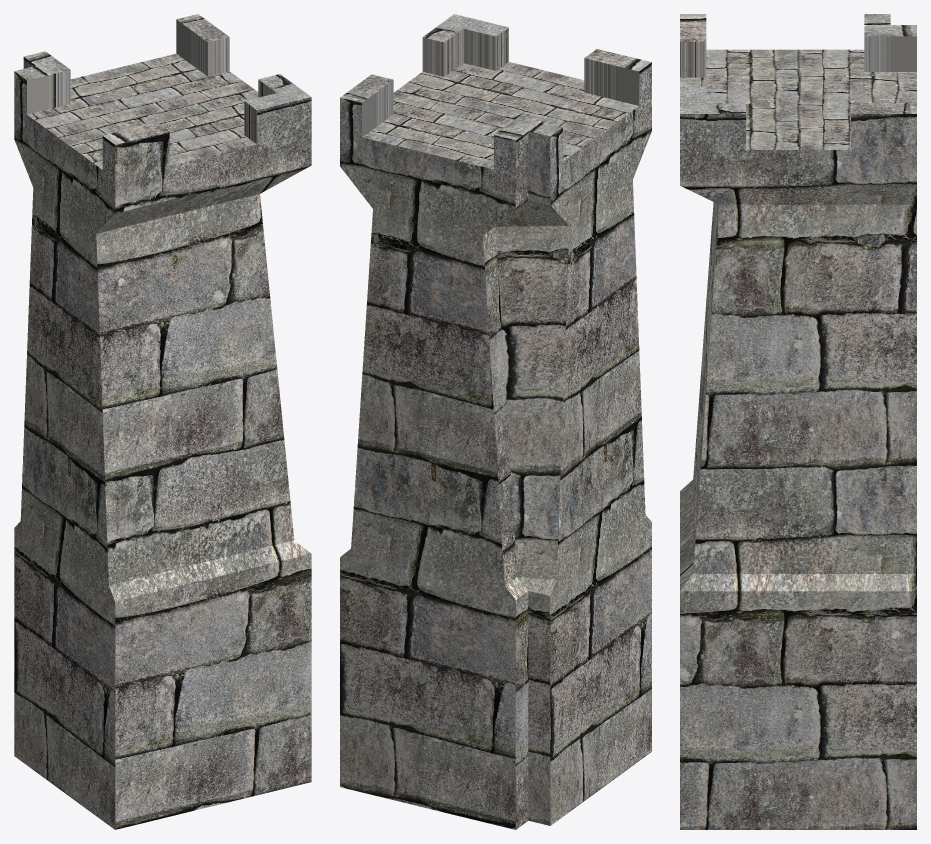
File: wall_edge_model.glb
The picture shows the model from 3 angles, left to right: view 1: azimuth 30°, elevation 25°; view 2: azimuth 150°, elevation 25°; view 3: azimuth 270°, elevation 25°; orthographic projection. The views are drawn at different scales.
Parts seen in each view (by area): view 1: Cube; view 2: Cube; view 3: Cube.
Boxes of the visible parts, left/top/right/bottom form: Cube: left=14, top=14, right=311, bottom=829; Cube: left=340, top=14, right=651, bottom=829; Cube: left=680, top=14, right=916, bottom=829.
Bounding box in the file's own units: 0.9 × 3 × 0.9.
1 material, 1 textured.
